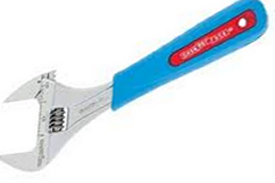wrench: (8, 1, 269, 172)
